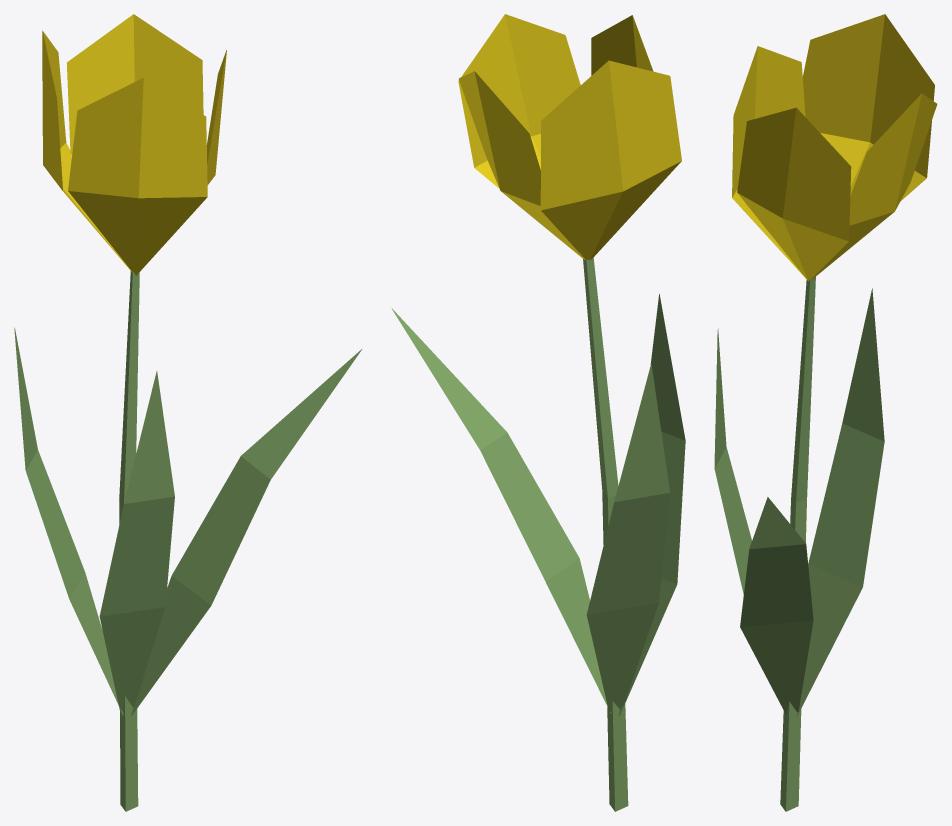
Rendered from yellowflower.fbx.
3 views of the same model, side by side, from view 1: azimuth 30°, elevation 25°; view 2: azimuth 150°, elevation 25°; view 3: azimuth 270°, elevation 25° (orthographic). The views are drawn at different scales.
Visible parts, largest first — view 1: Yellow flower; view 2: Yellow flower; view 3: Yellow flower.
Boxes of the visible parts, x1,y1,x2,y2 form: Yellow flower: [14, 14, 361, 811]; Yellow flower: [391, 14, 685, 811]; Yellow flower: [714, 14, 937, 811].
Size of the model in its own units: 0.2241 by 0.5354 by 0.1398.
